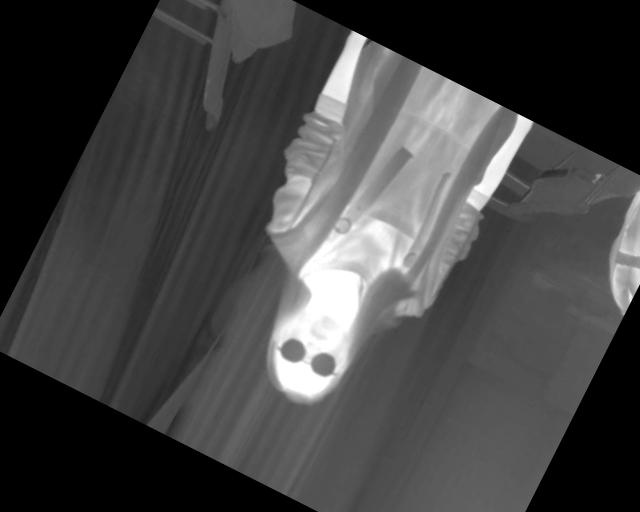face: (250, 295, 364, 416)
